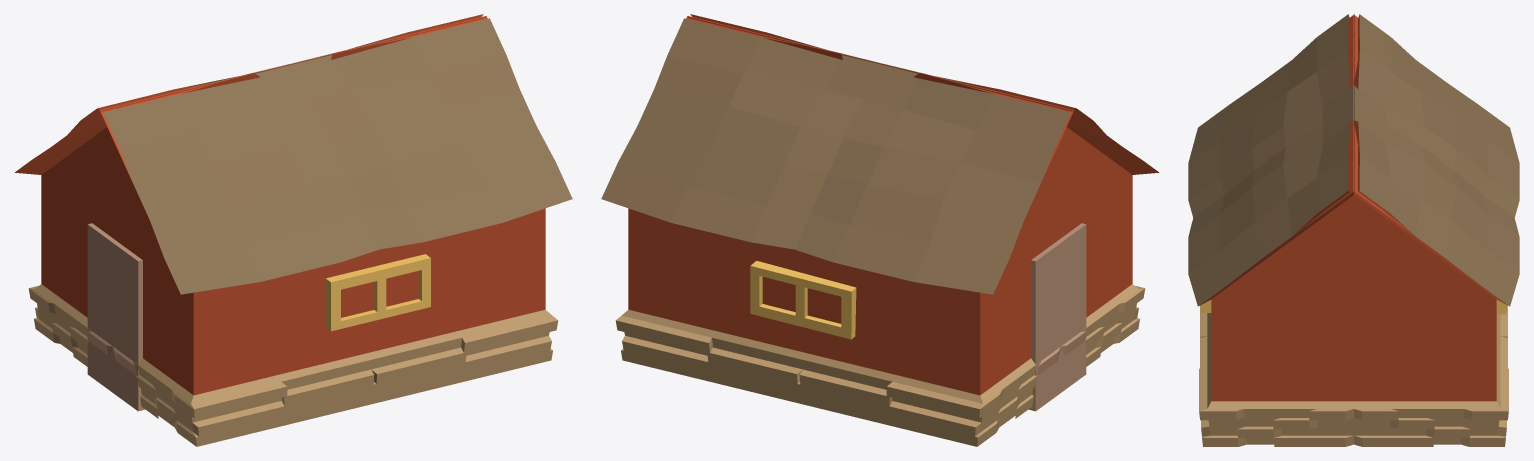
File: Town_House5.fbx
3 renders of one model, left to right at view 1: azimuth 30°, elevation 25°; view 2: azimuth 150°, elevation 25°; view 3: azimuth 270°, elevation 25°, orthographic. The views are drawn at different scales.
Visible parts, largest first — view 1: Cube; view 2: Cube; view 3: Cube.
Boxes of the visible parts, left/top/right/bottom form: Cube: left=15, top=14, right=572, bottom=446; Cube: left=601, top=14, right=1158, bottom=446; Cube: left=1188, top=14, right=1519, bottom=446.
Bounding box in the file's own units: 891 × 620 × 697.
